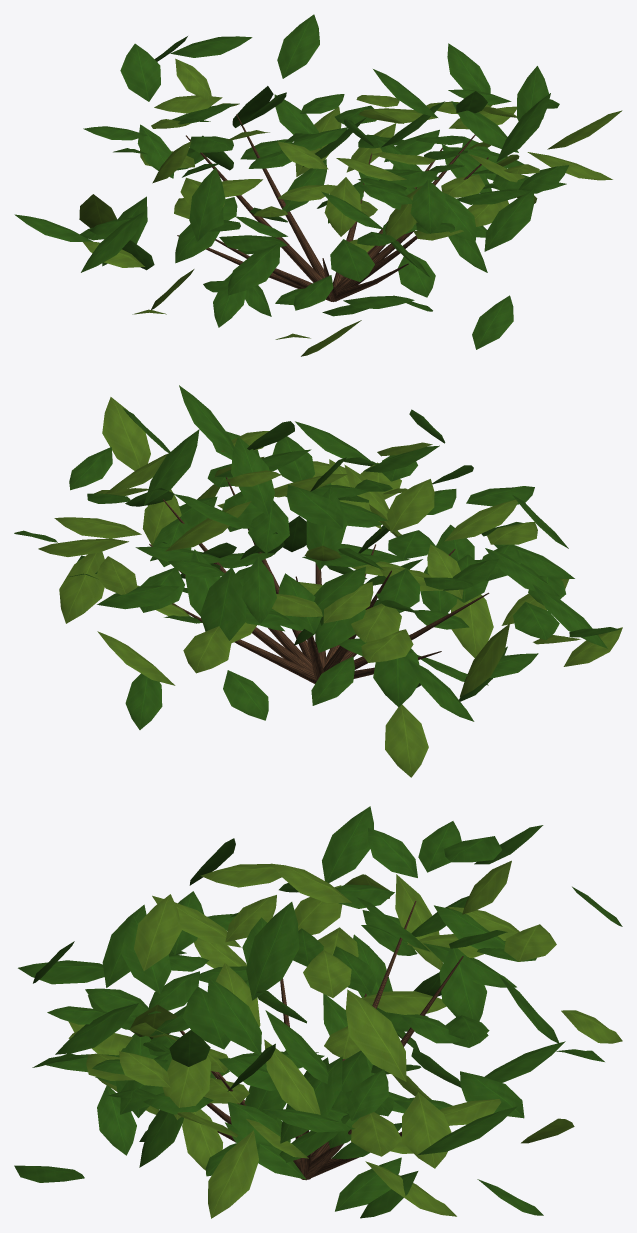
Rendered from bush.glb.
The picture shows the model from 3 angles, top to bottom: view 1: azimuth 30°, elevation 25°; view 2: azimuth 150°, elevation 25°; view 3: azimuth 270°, elevation 25°; orthographic projection. The views are drawn at different scales.
Visible parts, largest first — view 1: bush; view 2: bush; view 3: bush.
Part boxes in pixels (left/top/right/bottom): bush: left=14, top=14, right=622, bottom=356; bush: left=14, top=385, right=622, bottom=777; bush: left=14, top=806, right=622, bottom=1218.
Size of the model in its own units: 1 by 0.4356 by 0.7486.
Materials: 3 (3 with a texture image).
